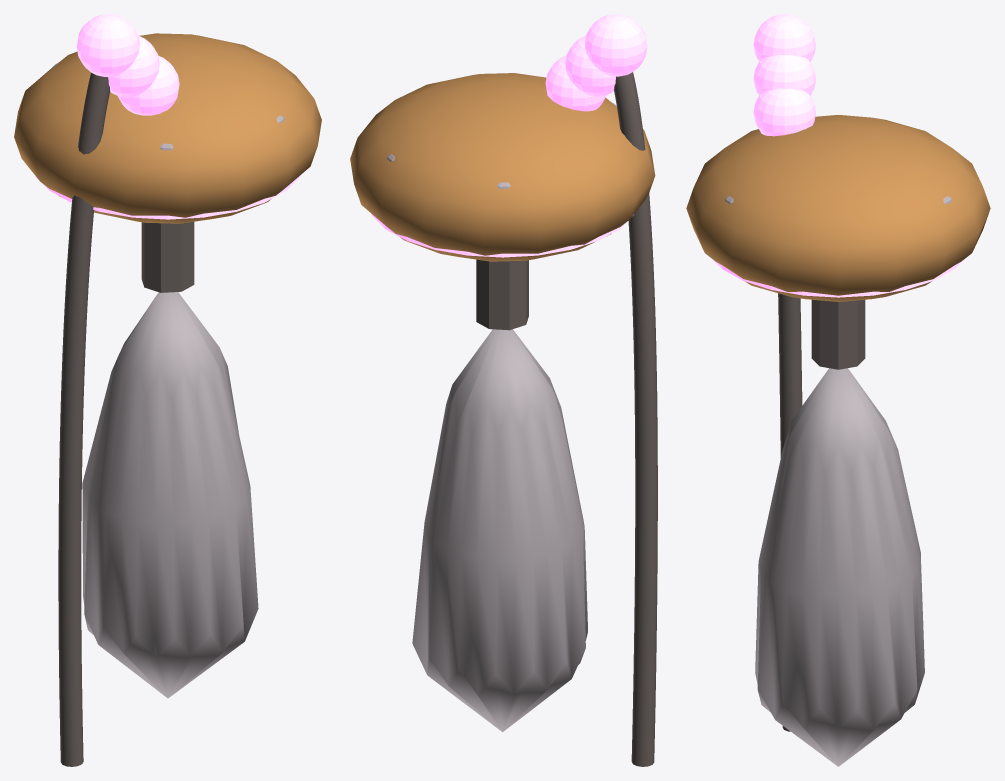
The model's file is sporecaller.glb.
The picture shows the model from 3 angles, left to right: view 1: azimuth 30°, elevation 25°; view 2: azimuth 150°, elevation 25°; view 3: azimuth 270°, elevation 25°; orthographic projection. The views are drawn at different scales.
Parts seen in each view (by area): view 1: sporecaller; view 2: sporecaller; view 3: sporecaller.
Part boxes in pixels (left/top/right/bottom): sporecaller: left=14, top=14, right=321, bottom=766; sporecaller: left=350, top=14, right=657, bottom=766; sporecaller: left=686, top=14, right=990, bottom=766.
Size of the model in its own units: 0.68 by 1.79 by 0.68.
